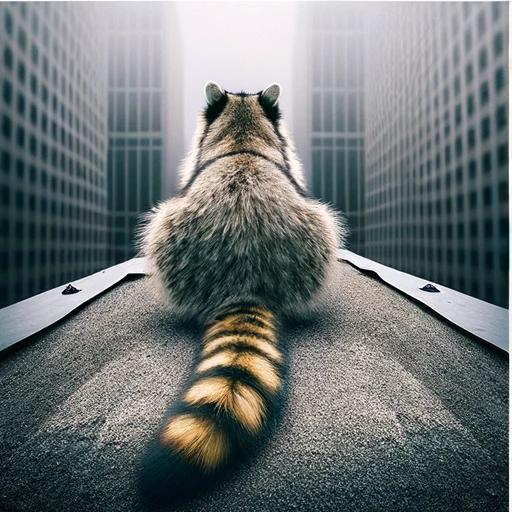raccoon: (127, 72, 354, 512)
